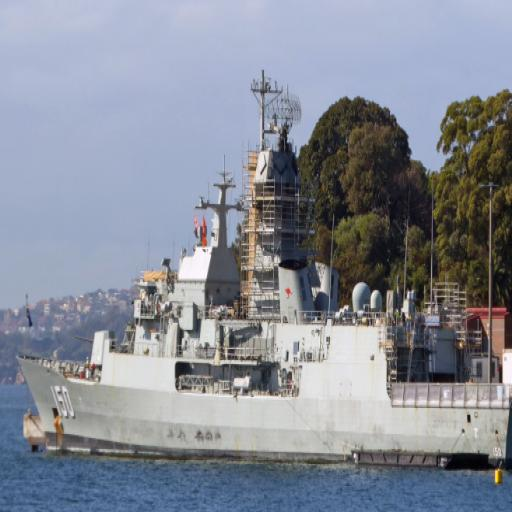Fragata: (13, 63, 512, 462)
